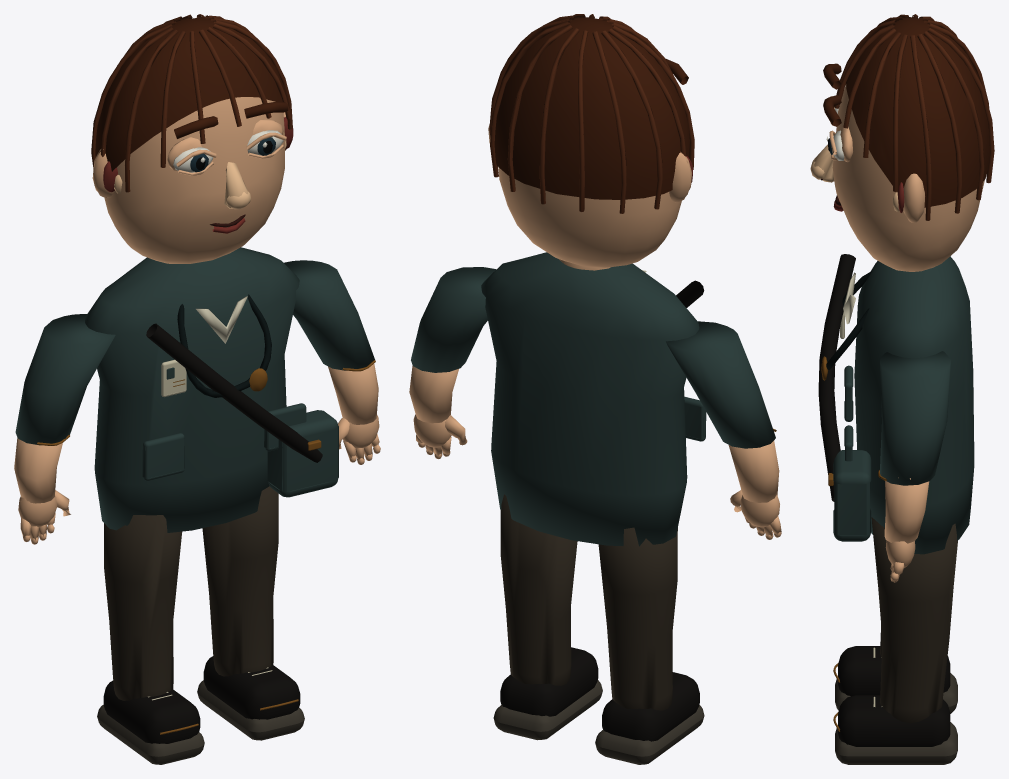
Rendered from doctor-03.glb.
The picture shows the model from 3 angles, left to right: view 1: azimuth 30°, elevation 25°; view 2: azimuth 150°, elevation 25°; view 3: azimuth 270°, elevation 25°; orthographic projection.
Parts seen in each view (by area): view 1: Body, Head, LegL, LegR, ArmL, ArmR; view 2: Body, Head, LegL, LegR, ArmL, ArmR; view 3: Head, Body, LegR, ArmR, LegL.
Boxes of the visible parts, left/top/right/bottom form: Body: left=85, top=247, right=338, bottom=532; Head: left=91, top=14, right=293, bottom=263; LegL: left=97, top=515, right=204, bottom=764; LegR: left=197, top=486, right=304, bottom=740; ArmL: left=14, top=314, right=115, bottom=544; ArmR: left=284, top=260, right=380, bottom=464; Body: left=481, top=252, right=706, bottom=546; Head: left=488, top=14, right=694, bottom=270; LegL: left=595, top=527, right=704, bottom=764; LegR: left=493, top=494, right=602, bottom=740; ArmL: left=666, top=321, right=781, bottom=539; ArmR: left=409, top=267, right=496, bottom=459; Head: left=810, top=14, right=994, bottom=271; Body: left=818, top=254, right=974, bottom=554; LegR: left=833, top=517, right=957, bottom=764; ArmR: left=878, top=351, right=951, bottom=582; LegL: left=833, top=625, right=957, bottom=713.
Bounding box in the file's own units: 0.7681 × 1.43 × 0.3386.
